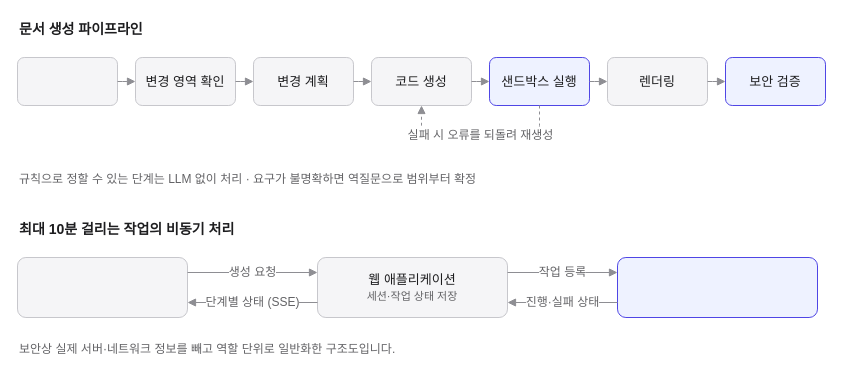
Some shapes in this 843 by 378 pixel diagram are drawn without their labels. The box of each missing label's shape, as (x1, y1, x2, y2) in pixels:
구조 분석: (16, 56, 118, 106)
문서 처리 서버 생성 전용 스레드 풀 워커: (616, 256, 818, 318)
사용자 화면 닫았다 돌아와도 상태 복원: (16, 256, 188, 318)
